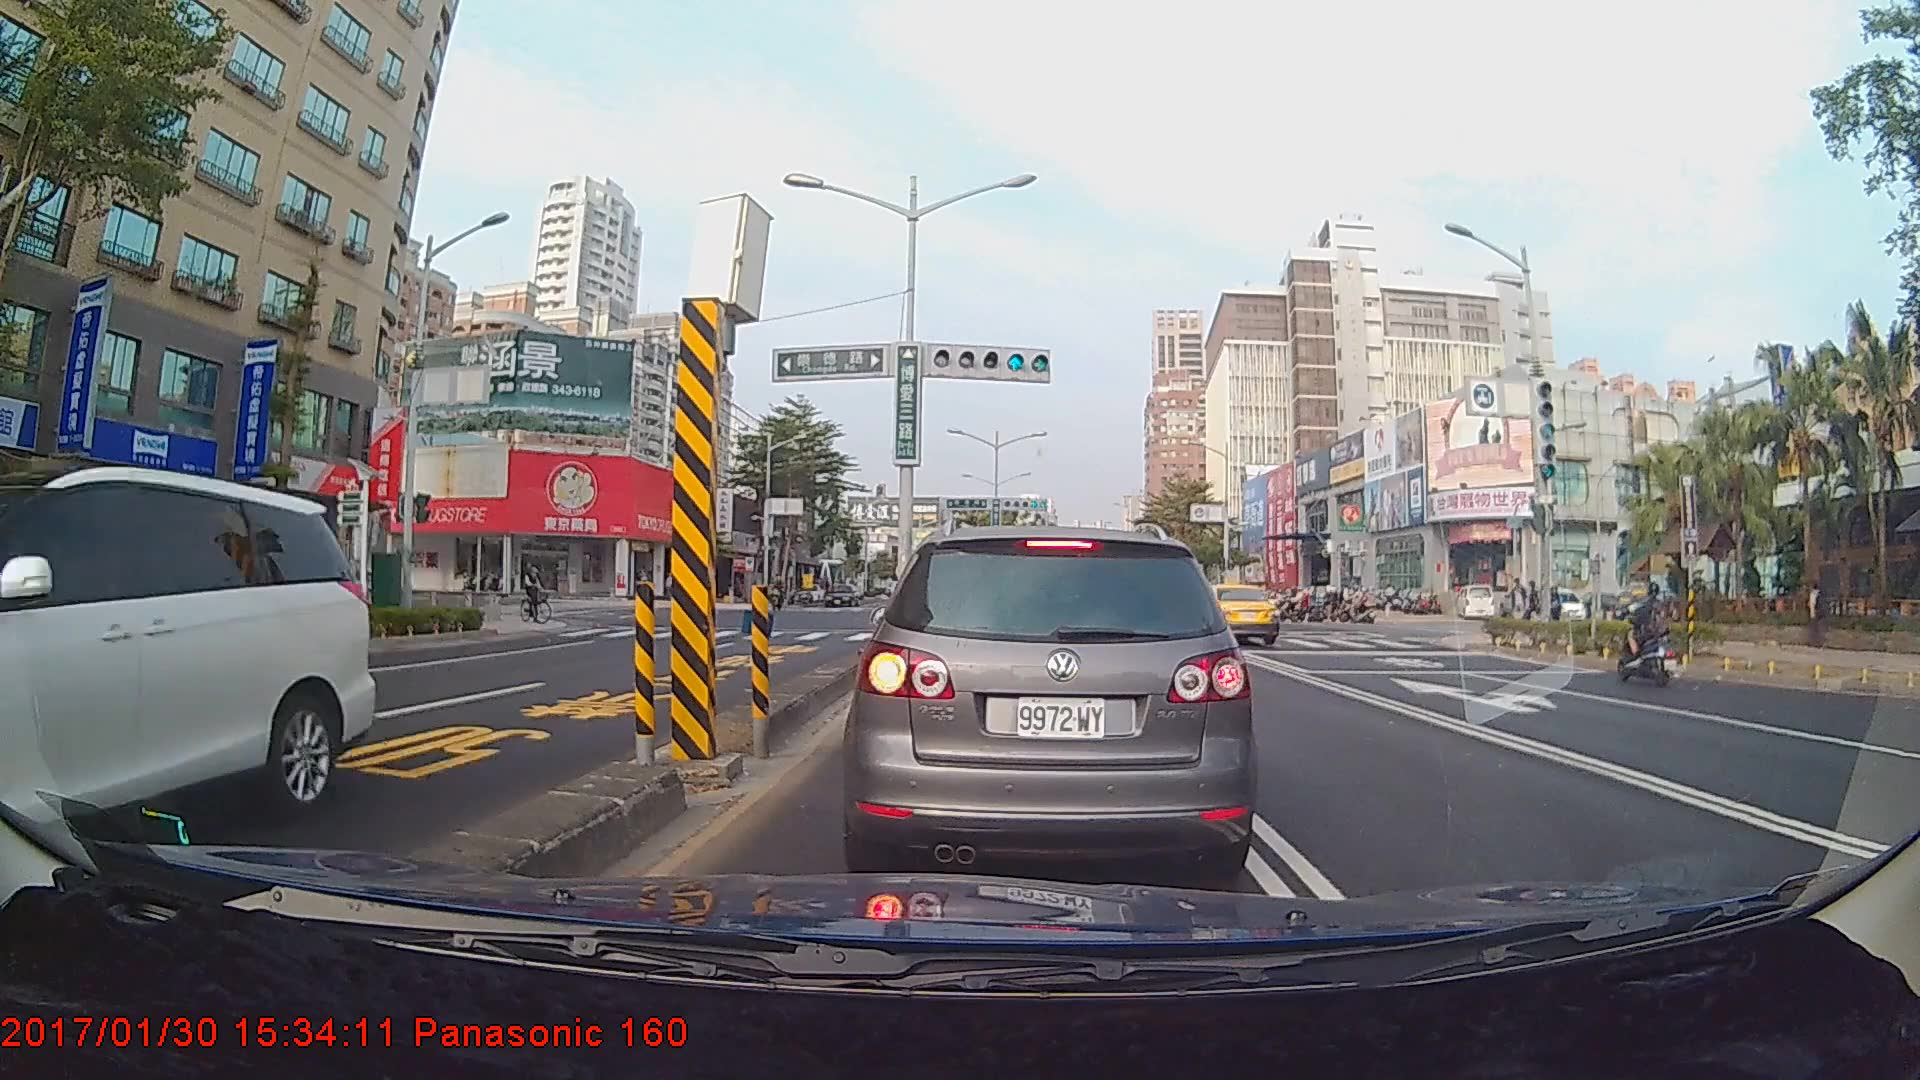pedestrian: (1804, 579, 1830, 647)
rider: (1614, 579, 1682, 689), (518, 559, 561, 629)
vehicle: (0, 462, 369, 897), (857, 524, 1249, 877), (1184, 581, 1281, 645)
